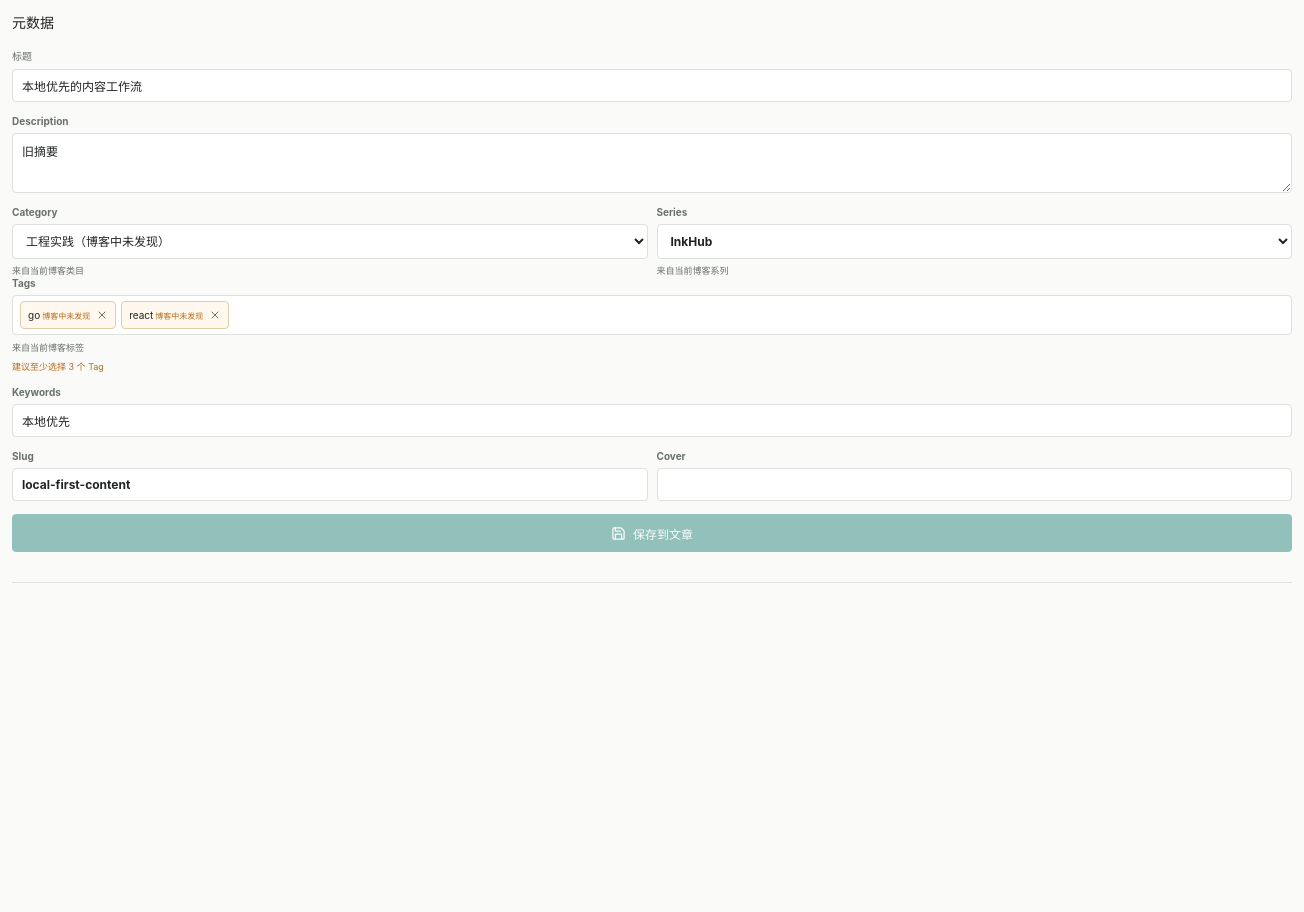
Series 从 Hugo 快照选择并进入文章草稿
Select "Go 课程" in the dropdown labelled "Series" at (974, 242), box x1=656 y1=224 x2=1292 y2=259
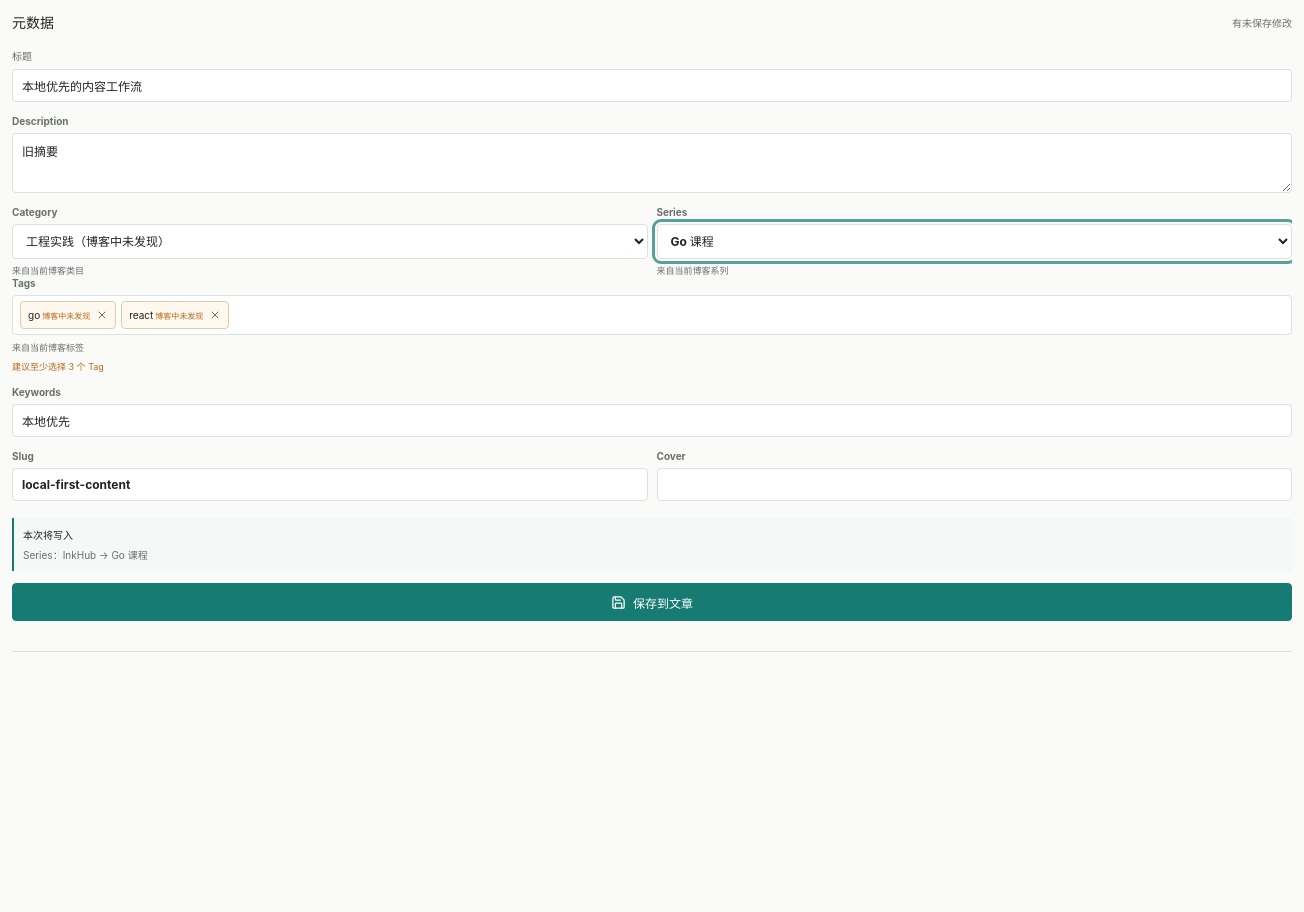
Result: the text "Series：InkHub → Go 课程" is shown at x1=23 y1=549 x2=148 y2=561
